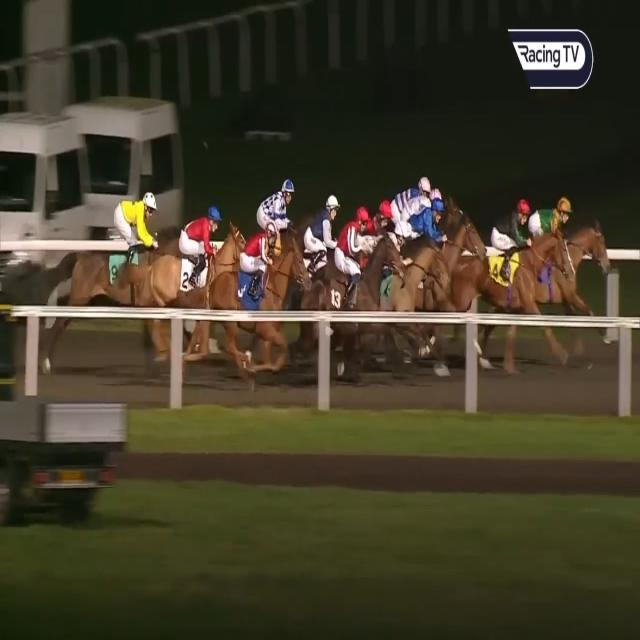horses-racing: (477, 190, 536, 318), (530, 188, 594, 304), (389, 195, 448, 318), (336, 202, 393, 323), (169, 195, 234, 296), (102, 184, 164, 285), (237, 215, 290, 327), (301, 180, 342, 310), (251, 170, 304, 250), (387, 166, 429, 226), (396, 180, 446, 224), (371, 188, 394, 242)
